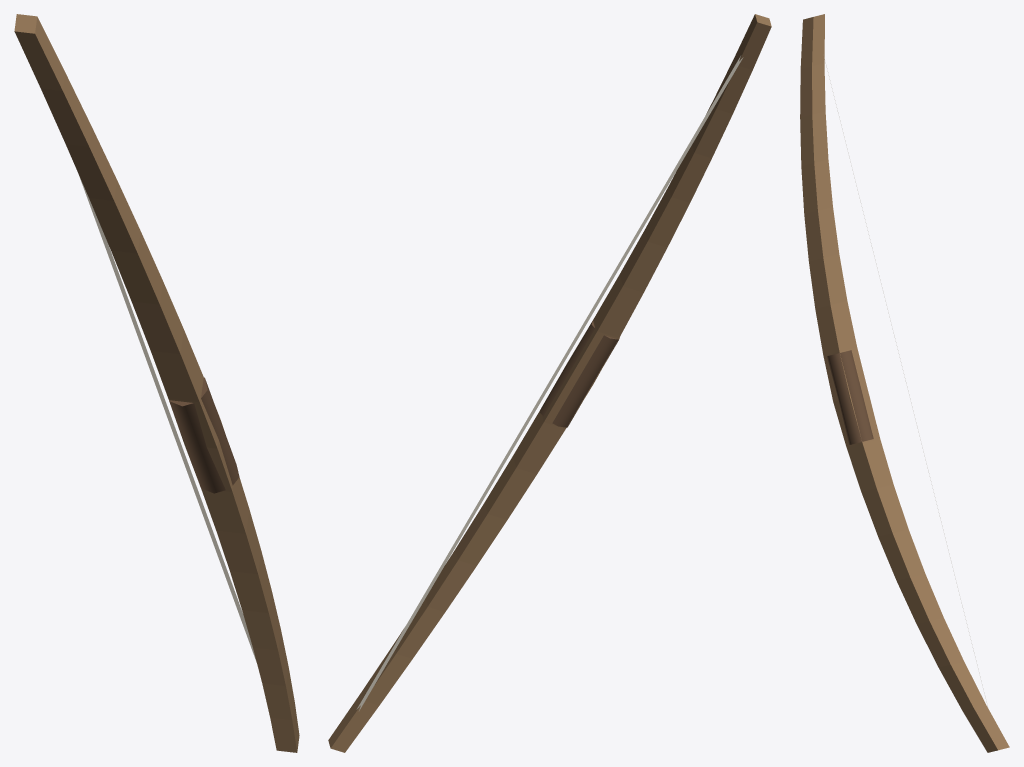
File: wpn_shortbow.glb
The picture shows the model from 3 angles, left to right: view 1: azimuth 30°, elevation 25°; view 2: azimuth 150°, elevation 25°; view 3: azimuth 270°, elevation 25°; orthographic projection. The views are drawn at different scales.
Parts seen in each view (by area): view 1: wpn_shortbow; view 2: wpn_shortbow; view 3: wpn_shortbow.
Part boxes in pixels (left/top/right/bottom): wpn_shortbow: left=14, top=14, right=299, bottom=752; wpn_shortbow: left=328, top=14, right=771, bottom=752; wpn_shortbow: left=800, top=14, right=1009, bottom=752.
Size of the model in its own units: 0.2812 by 0.5883 by 0.183.
